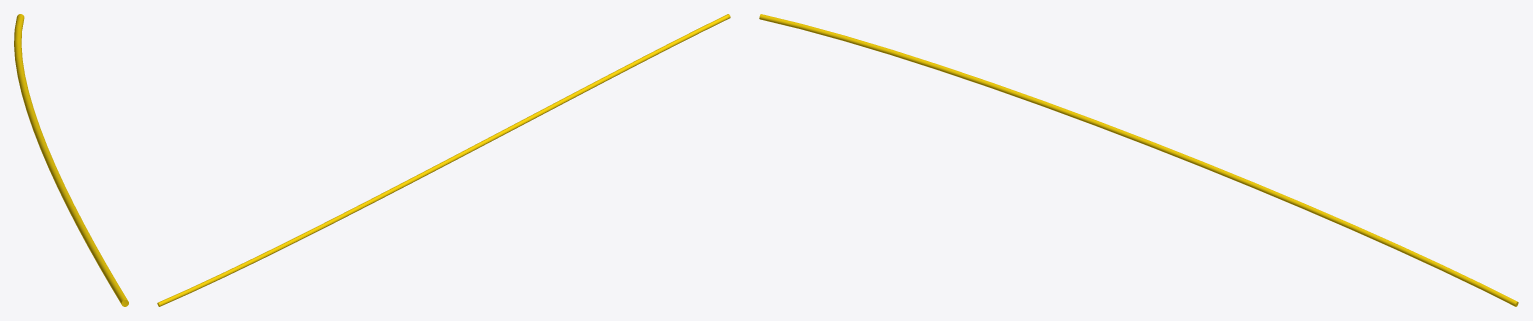
The model's file is Event_420107950_track_27.fbx.
3 views of the same model, side by side, from view 1: azimuth 90°, elevation 25°; view 2: azimuth 210°, elevation 25°; view 3: azimuth 330°, elevation 25° (orthographic). The views are drawn at different scales.
Parts seen in each view (by area): view 1: Model; view 2: Model; view 3: Model.
Part boxes in pixels (x1,y1,x2,y2): Model: [14, 14, 128, 306]; Model: [157, 14, 730, 306]; Model: [759, 14, 1518, 306].
Bounding box in the file's own units: 5.96 × 1.15 × 0.6059.
